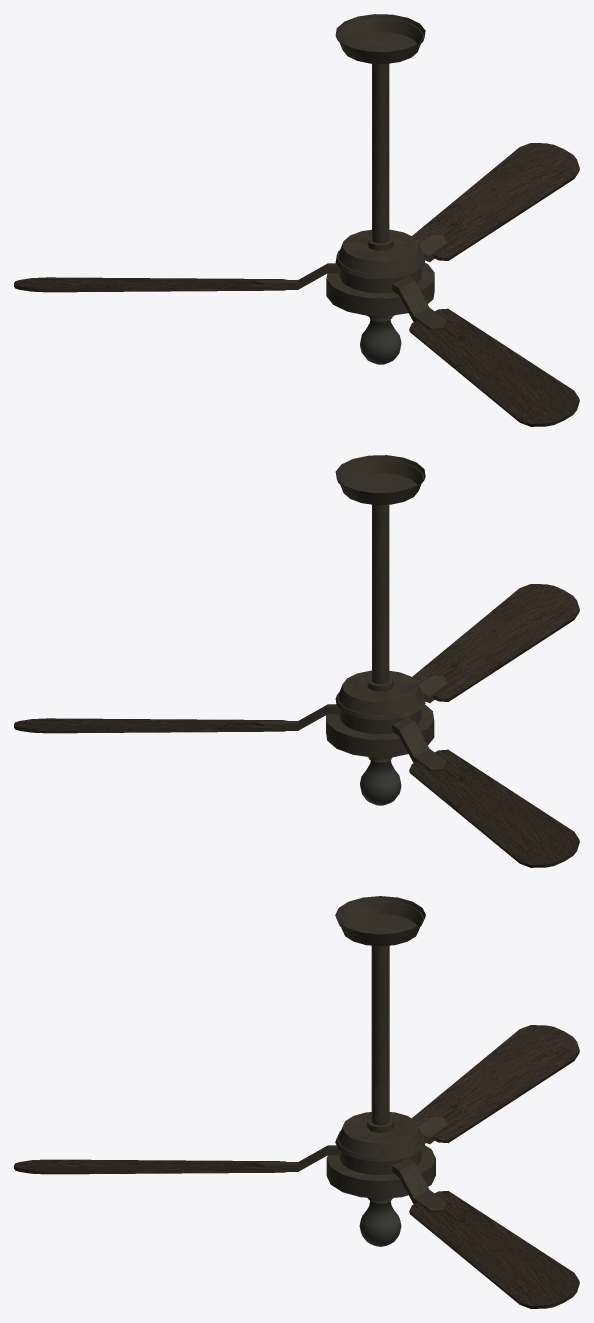
File: ceiling_fan_mp_1_1_light_off.glb
3 views of the same model, one above another, from view 1: azimuth 30°, elevation 25°; view 2: azimuth 150°, elevation 25°; view 3: azimuth 270°, elevation 25° (orthographic).
Visible parts, largest first — view 1: ceiling_fan_mp_1_1_light_off_blades, ceiling_fan_mp_1_1_light_off; view 2: ceiling_fan_mp_1_1_light_off_blades, ceiling_fan_mp_1_1_light_off; view 3: ceiling_fan_mp_1_1_light_off_blades, ceiling_fan_mp_1_1_light_off.
Boxes of the visible parts, x1=… form: ceiling_fan_mp_1_1_light_off_blades: x1=14, y1=143, x2=579, y2=426; ceiling_fan_mp_1_1_light_off: x1=326, y1=14, x2=434, y2=364; ceiling_fan_mp_1_1_light_off_blades: x1=14, y1=584, x2=579, y2=867; ceiling_fan_mp_1_1_light_off: x1=326, y1=455, x2=434, y2=805; ceiling_fan_mp_1_1_light_off_blades: x1=14, y1=1025, x2=579, y2=1308; ceiling_fan_mp_1_1_light_off: x1=326, y1=896, x2=435, y2=1246.
Size of the model in its own units: 1.06 by 0.5966 by 0.9279.
Materials: 3 (3 with a texture image).
